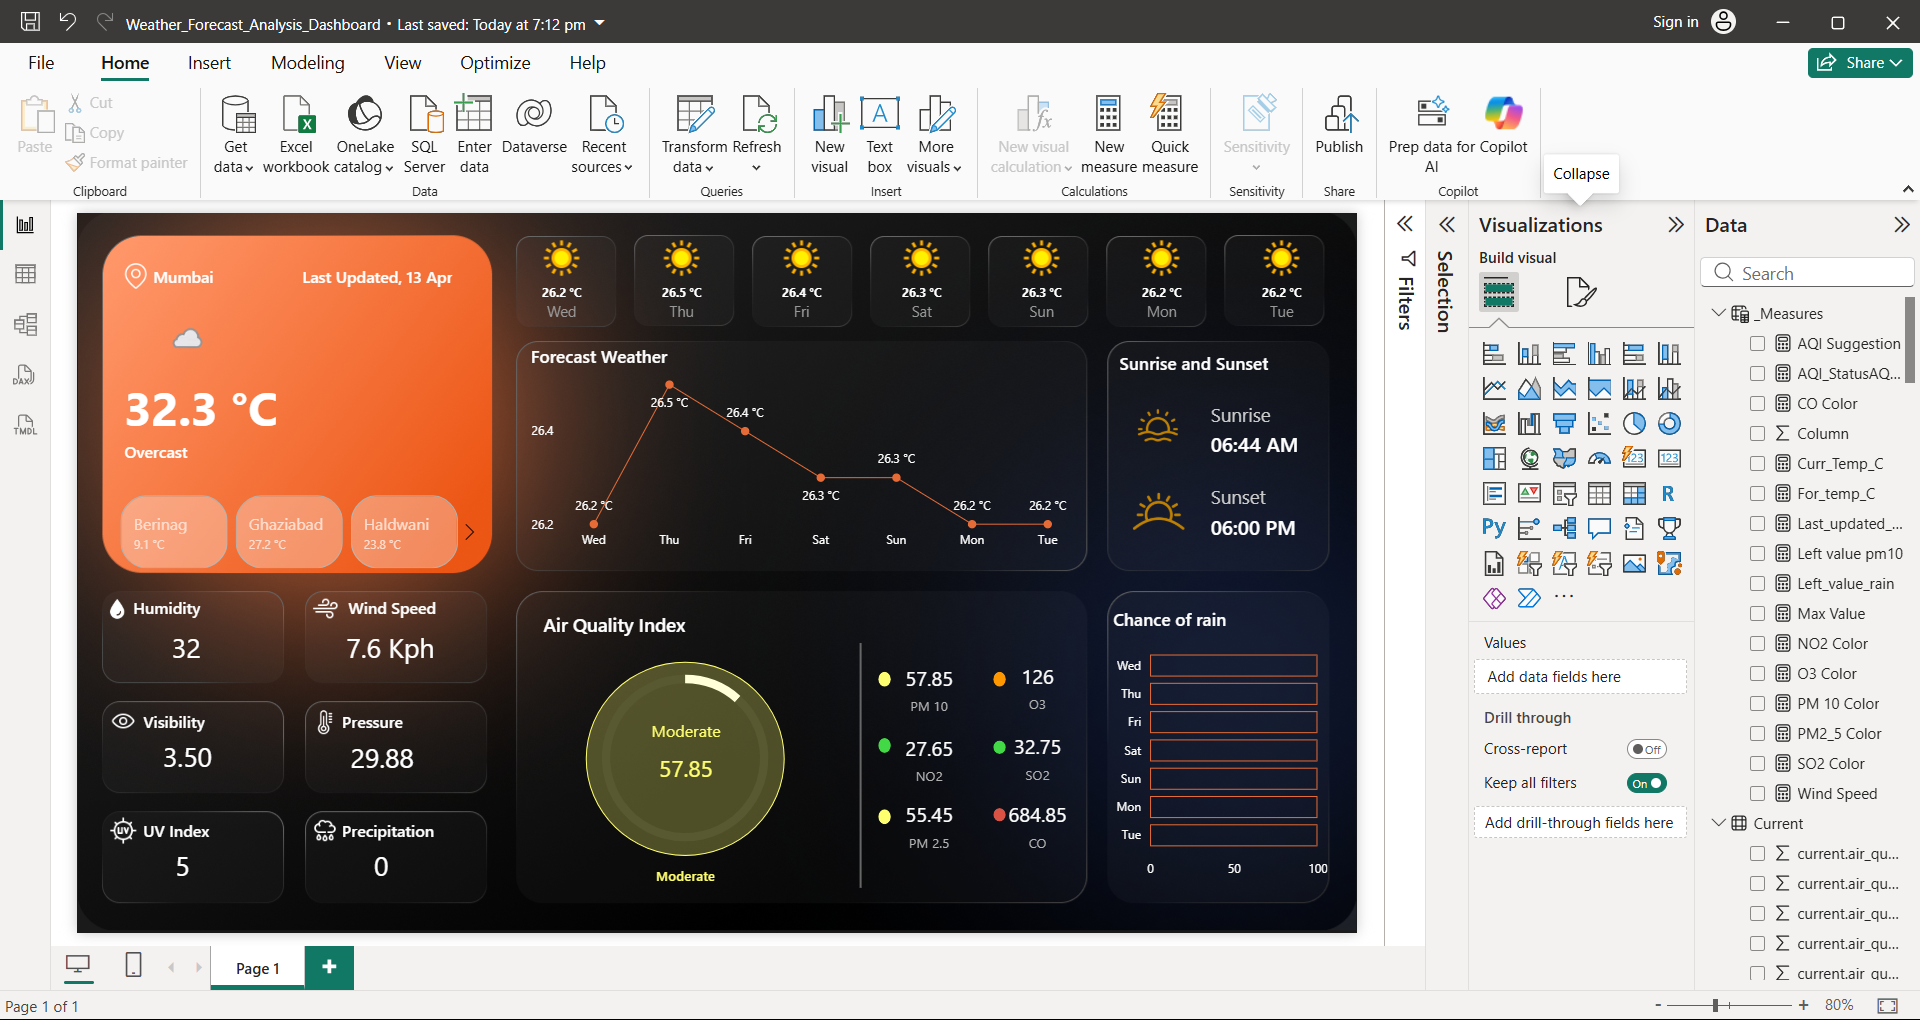

What the dashboard file says about the page in this screenshot:
{"tool":"powerbi","page":{"name":"Page 1","canvas":[1280,720],"ordinal":0},"visuals":[{"type":"shape","box":[801.6,459.2,12.6,14.9],"z":0},{"type":"advancedSlicerVisual","fields":{"Values":["Locations.location.name"]},"box":[18.8,277,389.5,83.7],"z":1000},{"type":"card","fields":{"Values":["Sum(Current.current.air_quality.co)"]},"box":[914.6,574.3,91.8,77.2],"z":2000},{"type":"shape","box":[47.1,150,179.5,88.3],"z":3000},{"type":"shape","box":[47.1,216.2,354.5,44.1],"z":4000},{"type":"shape","box":[801.6,596,12.6,14.9],"z":5000},{"type":"shape","box":[76.5,39.7,150,47.1],"z":6000},{"type":"shape","box":[213.3,39.7,173.6,47.1],"z":7000},{"type":"card","fields":{"Values":["Sum(Current.current.air_quality.so2)"]},"box":[928.4,506.6,64.3,75.9],"z":8000},{"type":"image","box":[41.2,44.1,35.3,38.2],"z":9000},{"type":"shape","box":[801.6,525.5,12.6,14.9],"z":10000},{"type":"cardVisual","fields":{"Data":["Min(Current.current.condition.icon)"]},"box":[32.4,82.4,104.4,86.8],"z":11000},{"type":"card","fields":{"Values":["Sum(Current.current.air_quality.o3)"]},"box":[928.4,436.1,64.3,75.2],"z":12000},{"type":"image","box":[25.6,380,30.4,31.7],"z":13000},{"type":"image","box":[25.6,489.6,42.6,36.5],"z":14000},{"type":"shape","box":[915.8,459.2,12.6,14.9],"z":15000},{"type":"image","box":[226.5,377.5,43.8,36.5],"z":16000},{"type":"image","box":[28,599.2,37.8,37.8],"z":17000},{"type":"shape","box":[915.8,526.9,12.6,13.5],"z":18000},{"type":"image","box":[231.4,489.6,34.1,37.8],"z":19000},{"type":"image","box":[230.2,599.2,36.5,37.8],"z":20000},{"type":"shape","box":[915.8,594.6,12.6,13.5],"z":21000},{"type":"shape","box":[55.9,376.6,153,35.3],"z":22000},{"type":"shape","box":[270.7,376.6,153,35.3],"z":23000},{"type":"shape","box":[66.2,489.8,153,35.3],"z":24000},{"type":"shape","box":[264.8,489.8,153,35.3],"z":25000},{"type":"shape","box":[66.2,598.7,153,35.3],"z":26000},{"type":"shape","box":[264.8,598.7,153,35.3],"z":27000},{"type":"card","fields":{"Values":["Sum(Current.current.humidity)"]},"box":[76.5,414.8,66.2,41.2],"z":28000},{"type":"card","fields":{"Values":["Sum(Current.current.vis_km)"]},"box":[70.4,525.5,81.3,40.6],"z":29000},{"type":"card","fields":{"Values":["Sum(Current.current.uv)"]},"box":[72.1,634,66.2,41.2],"z":30000},{"type":"card","fields":{"Values":["_Measures.Wind Speed"]},"box":[251.7,414.7,124.6,41.9],"z":31000},{"type":"card","fields":{"Values":["Sum(Current.current.pressure_in)"]},"box":[259.5,524.9,90.5,41.5],"z":32000},{"type":"card","fields":{"Values":["Sum(Current.current.precip_mm)"]},"box":[270.7,634,66.2,41.2],"z":33000},{"type":"advancedSlicerVisual","fields":{"Values":["Forecast_day.Day_name"]},"box":[424.3,16.8,844.9,109.1],"z":34000},{"type":"lineChart","title":"Forecast Weather","fields":{"Category":["Forecast_day.Day_name"],"Y":["Sum(Forecast_day.forecast.forecastday.day.avgtemp_c)"]},"box":[448.9,131.8,557.5,214.3],"z":35000},{"type":"shape","box":[1041.9,131.8,153,36.3],"z":36000},{"type":"shape","box":[1134.3,186.3,89.4,30.3],"z":37000},{"type":"shape","box":[1134.3,216.6,89.4,30.3],"z":38000},{"type":"shape","box":[1134.3,268.7,89.4,30.3],"z":39000},{"type":"shape","box":[1134.3,299,89.4,30.3],"z":40000},{"type":"image","box":[1041.9,187.8,77.2,50],"z":41000},{"type":"image","box":[1041.9,257.5,78.8,81.8],"z":42000},{"type":"barChart","title":"Chance of rain","fields":{"Category":["Forecast_day.Day_name"],"Y":["Sum(Forecast_day.forecast.forecastday.day.daily_chance_of_rain)","_Measures.Left_value_rain"]},"box":[1031,395.3,224.4,279.5],"z":43000},{"type":"shape","box":[466,393.2,211.2,36.4],"z":44000},{"type":"shape","box":[777.5,429.4,12.2,245.2],"z":45000},{"type":"donutChart","fields":{"Y":["Sum(Current.current.air_quality.pm10)","_Measures.Left value pm10"]},"box":[467.4,436.3,281.6,218.1],"z":46000},{"type":"shape","box":[509.4,448.2,199,194.2],"z":47000},{"type":"card","fields":{"Values":["Sum(Current.current.air_quality.pm10)"]},"box":[812.7,436.1,79.9,78.6],"z":48000},{"type":"card","fields":{"Values":["Sum(Current.current.air_quality.no2)"]},"box":[812.7,506.6,79.9,78.6],"z":49000},{"type":"card","fields":{"Values":["Sum(Current.current.air_quality.pm2_5)"]},"box":[812.7,574.3,79.9,77.2],"z":50000},{"type":"card","fields":{"Values":["Sum(Current.current.air_quality.pm10)"]},"box":[541,506.4,135.6,79.4],"z":51000},{"type":"shape","box":[502.1,643.5,212.1,37.5],"z":52000}]}

Visuals, with their boxes on the page's 1280x720 design canvas (x1, y1, x2, y2). These are canvas units, not pixel positions in the 1920x1020 screenshot, which may show the page scaled, cropped or inside an application window:
shape: x1=802, y1=459, x2=814, y2=474
advancedSlicerVisual - Locations.location.name: x1=19, y1=277, x2=408, y2=361
card - Sum(Current.current.air_quality.co): x1=915, y1=574, x2=1006, y2=652
shape: x1=47, y1=150, x2=227, y2=238
shape: x1=47, y1=216, x2=402, y2=260
shape: x1=802, y1=596, x2=814, y2=611
shape: x1=76, y1=40, x2=226, y2=87
shape: x1=213, y1=40, x2=387, y2=87
card - Sum(Current.current.air_quality.so2): x1=928, y1=507, x2=993, y2=582
image: x1=41, y1=44, x2=76, y2=82
shape: x1=802, y1=526, x2=814, y2=540
cardVisual - Min(Current.current.condition.icon): x1=32, y1=82, x2=137, y2=169
card - Sum(Current.current.air_quality.o3): x1=928, y1=436, x2=993, y2=511
image: x1=26, y1=380, x2=56, y2=412
image: x1=26, y1=490, x2=68, y2=526
shape: x1=916, y1=459, x2=928, y2=474
image: x1=226, y1=378, x2=270, y2=414
image: x1=28, y1=599, x2=66, y2=637
shape: x1=916, y1=527, x2=928, y2=540
image: x1=231, y1=490, x2=266, y2=527
image: x1=230, y1=599, x2=267, y2=637
shape: x1=916, y1=595, x2=928, y2=608
shape: x1=56, y1=377, x2=209, y2=412
shape: x1=271, y1=377, x2=424, y2=412
shape: x1=66, y1=490, x2=219, y2=525
shape: x1=265, y1=490, x2=418, y2=525
shape: x1=66, y1=599, x2=219, y2=634
shape: x1=265, y1=599, x2=418, y2=634
card - Sum(Current.current.humidity): x1=76, y1=415, x2=143, y2=456
card - Sum(Current.current.vis_km): x1=70, y1=526, x2=152, y2=566
card - Sum(Current.current.uv): x1=72, y1=634, x2=138, y2=675
card - _Measures.Wind Speed: x1=252, y1=415, x2=376, y2=457
card - Sum(Current.current.pressure_in): x1=260, y1=525, x2=350, y2=566
card - Sum(Current.current.precip_mm): x1=271, y1=634, x2=337, y2=675
advancedSlicerVisual - Forecast_day.Day_name: x1=424, y1=17, x2=1269, y2=126
"Forecast Weather" lineChart: x1=449, y1=132, x2=1006, y2=346
shape: x1=1042, y1=132, x2=1195, y2=168
shape: x1=1134, y1=186, x2=1224, y2=217
shape: x1=1134, y1=217, x2=1224, y2=247
shape: x1=1134, y1=269, x2=1224, y2=299
shape: x1=1134, y1=299, x2=1224, y2=329
image: x1=1042, y1=188, x2=1119, y2=238
image: x1=1042, y1=258, x2=1121, y2=339
"Chance of rain" barChart: x1=1031, y1=395, x2=1255, y2=675
shape: x1=466, y1=393, x2=677, y2=430
shape: x1=778, y1=429, x2=790, y2=675
donutChart - Sum(Current.current.air_quality.pm10) x _Measures.Left value pm10: x1=467, y1=436, x2=749, y2=654
shape: x1=509, y1=448, x2=708, y2=642
card - Sum(Current.current.air_quality.pm10): x1=813, y1=436, x2=893, y2=515
card - Sum(Current.current.air_quality.no2): x1=813, y1=507, x2=893, y2=585
card - Sum(Current.current.air_quality.pm2_5): x1=813, y1=574, x2=893, y2=652
card - Sum(Current.current.air_quality.pm10): x1=541, y1=506, x2=677, y2=586
shape: x1=502, y1=644, x2=714, y2=681
